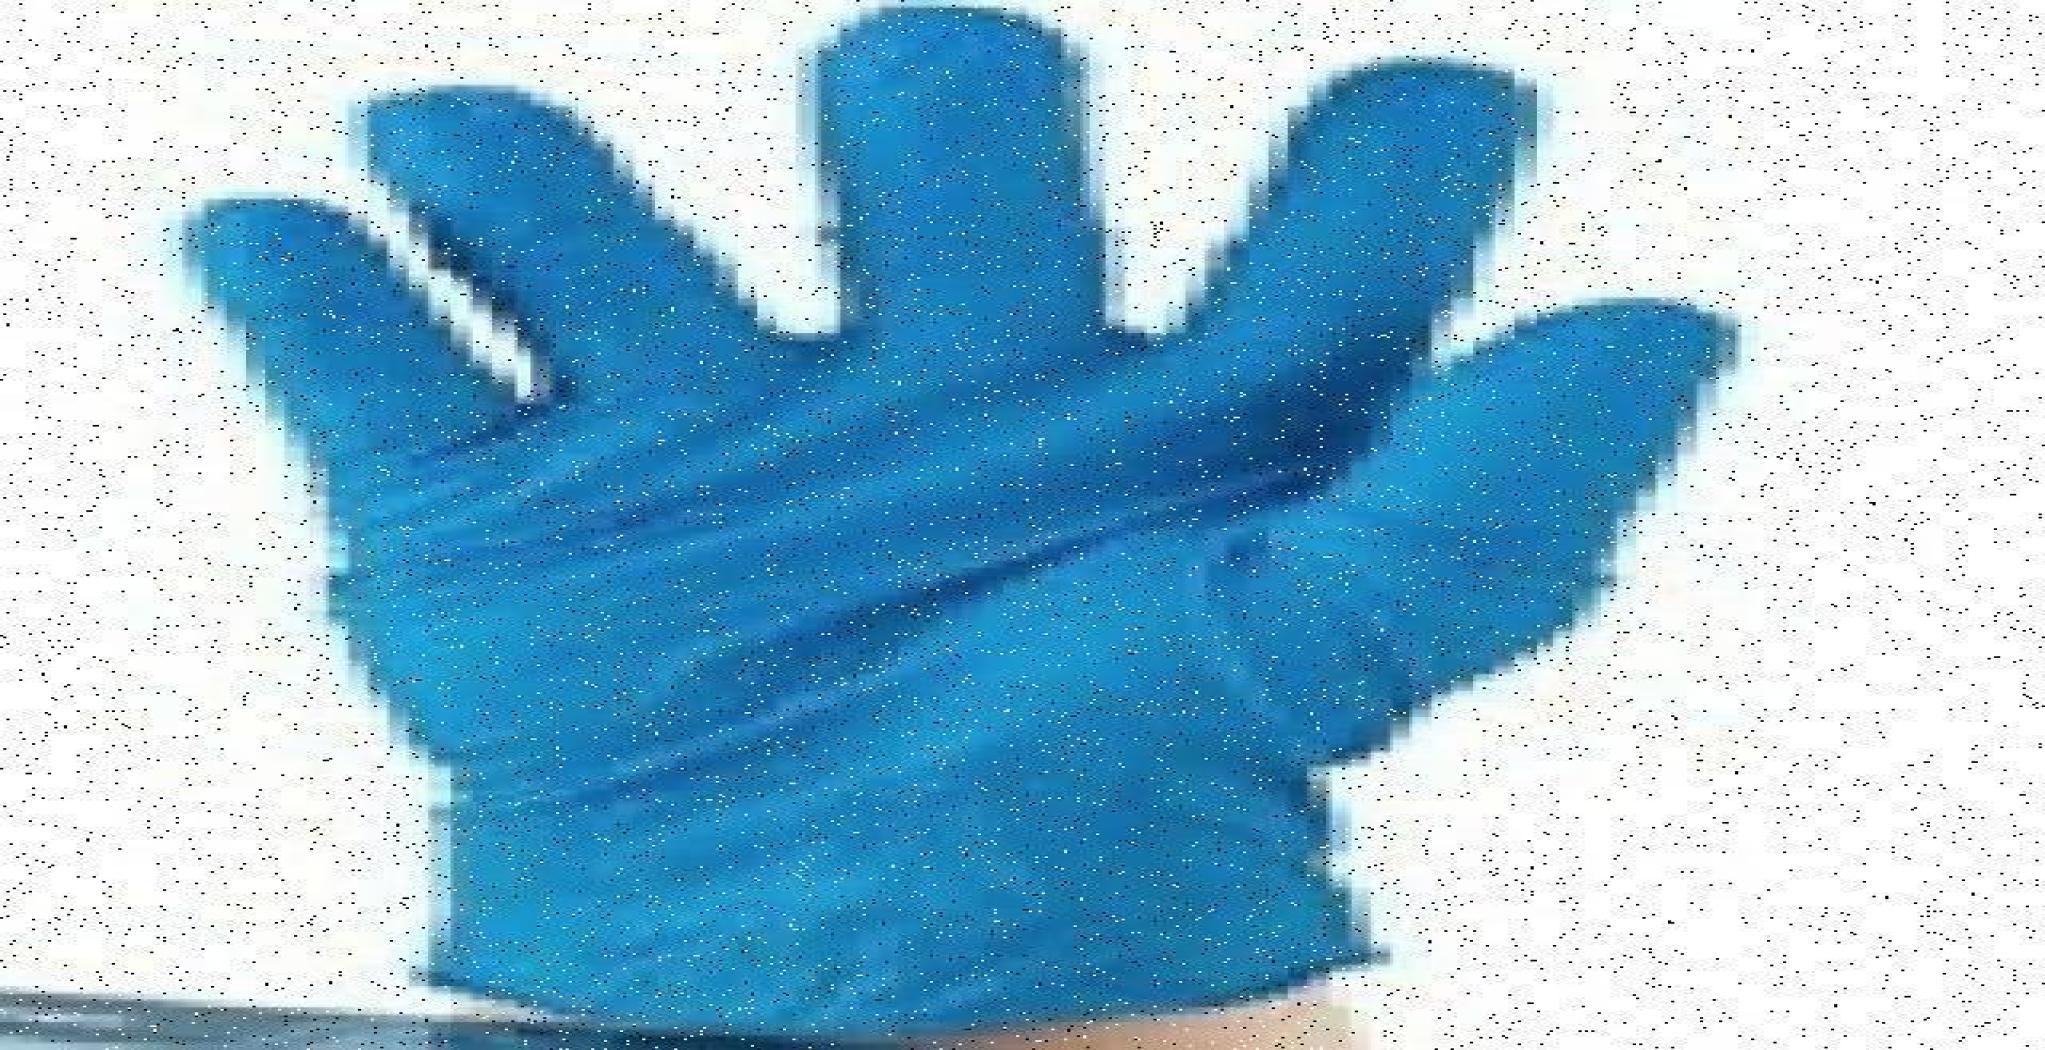gloved: (175, 5, 1738, 1038)
